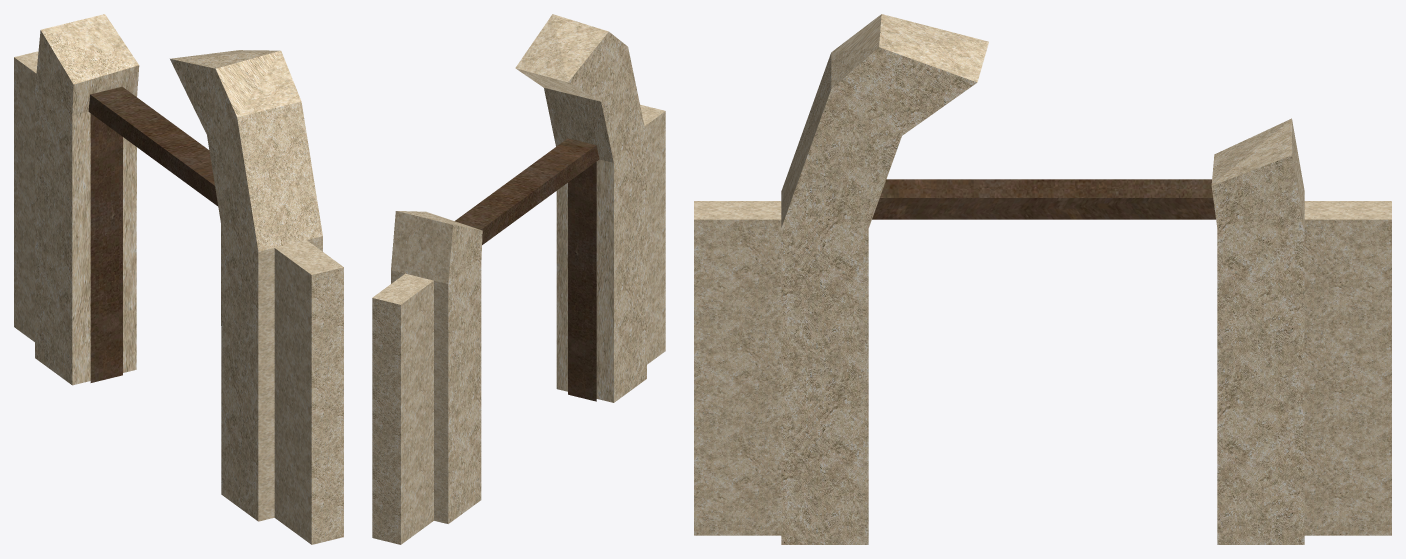
Rendered from thm_tato_imprv_wallgate_s02_l2.fbx.
3 renders of one model, left to right at view 1: azimuth 30°, elevation 25°; view 2: azimuth 150°, elevation 25°; view 3: azimuth 270°, elevation 25°, orthographic. The views are drawn at different scales.
Parts seen in each view (by area): view 1: mesh_node; view 2: mesh_node; view 3: mesh_node.
Boxes of the visible parts, box(x1,y1,x2,y2) form: mesh_node: box(14, 14, 343, 544); mesh_node: box(372, 14, 665, 544); mesh_node: box(694, 14, 1391, 544).
Size of the model in its own units: 1 by 6.3 by 8.
